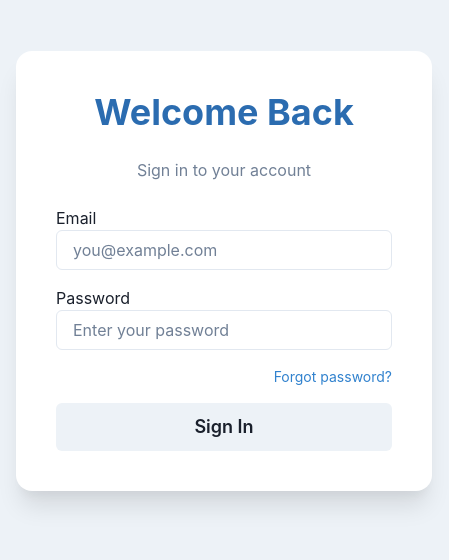
Test: Login › asks for an email before forgot-password and shows the reset message
The width and height of the screenshot is (449, 560).
Click the link "Forgot password?". click: (333, 377)
box: [274,366,392,387]
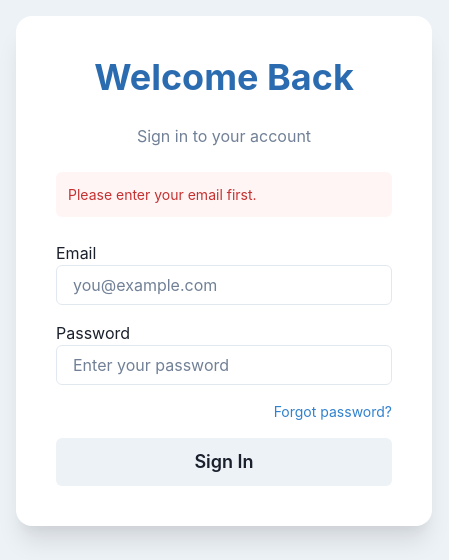
Result: the text "Please enter your email first." is shown at [68,186,257,203]
Type "user@example.com" into the field with placeholder "you@example.com". click: (224, 285)
box: [56,265,392,305]
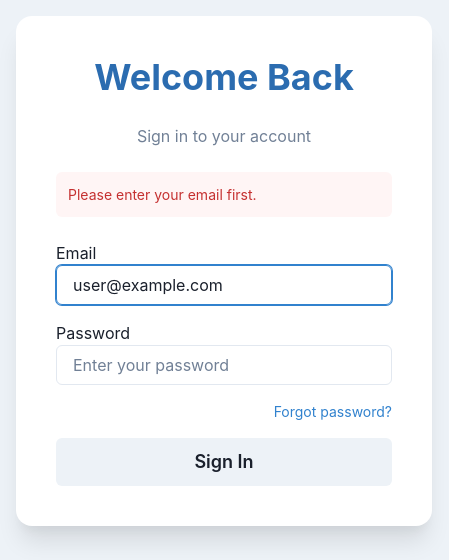
Click the link "Forgot password?". click: (333, 411)
box: [274,401,392,422]
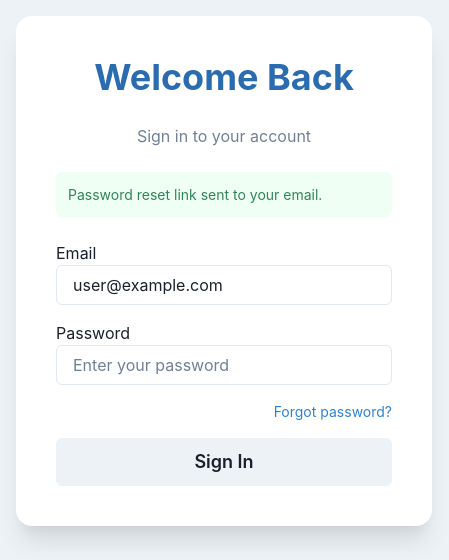
Result: the text "Password reset link sent to your email." is shown at [68,186,322,203]
